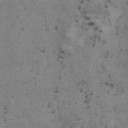oxide scale of temperature system: (74, 8, 123, 72), (40, 29, 67, 69), (78, 80, 90, 104), (104, 82, 114, 88), (54, 86, 59, 94), (75, 116, 82, 121), (47, 102, 51, 108)
